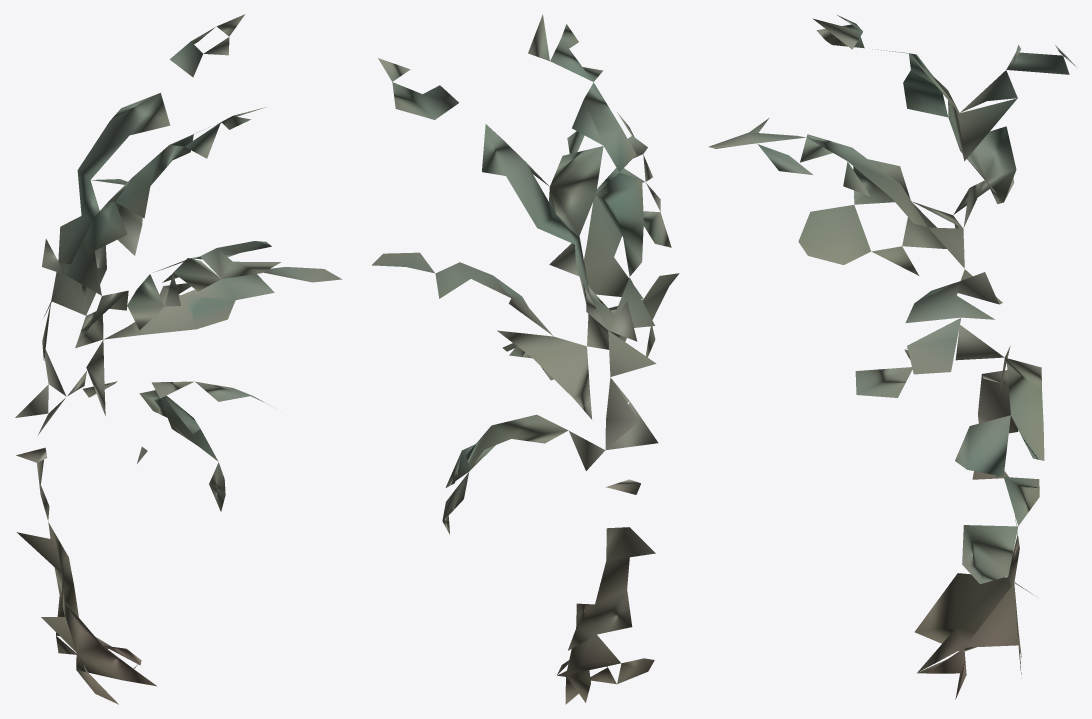
Rendered from verdant_palm_hero_v130_part3.gltf.
3 views of the same model, side by side, from view 1: azimuth 30°, elevation 25°; view 2: azimuth 150°, elevation 25°; view 3: azimuth 270°, elevation 25° (orthographic). The views are drawn at different scales.
Visible parts, largest first — view 1: verdant_palm_hero_v130Part3; view 2: verdant_palm_hero_v130Part3; view 3: verdant_palm_hero_v130Part3.
Boxes of the visible parts, x1,y1,x2,y2 form: verdant_palm_hero_v130Part3: [15, 14, 342, 704]; verdant_palm_hero_v130Part3: [372, 14, 679, 704]; verdant_palm_hero_v130Part3: [708, 15, 1076, 699].
Bounding box in the file's own units: 0.4902 × 0.9616 × 0.4377.
